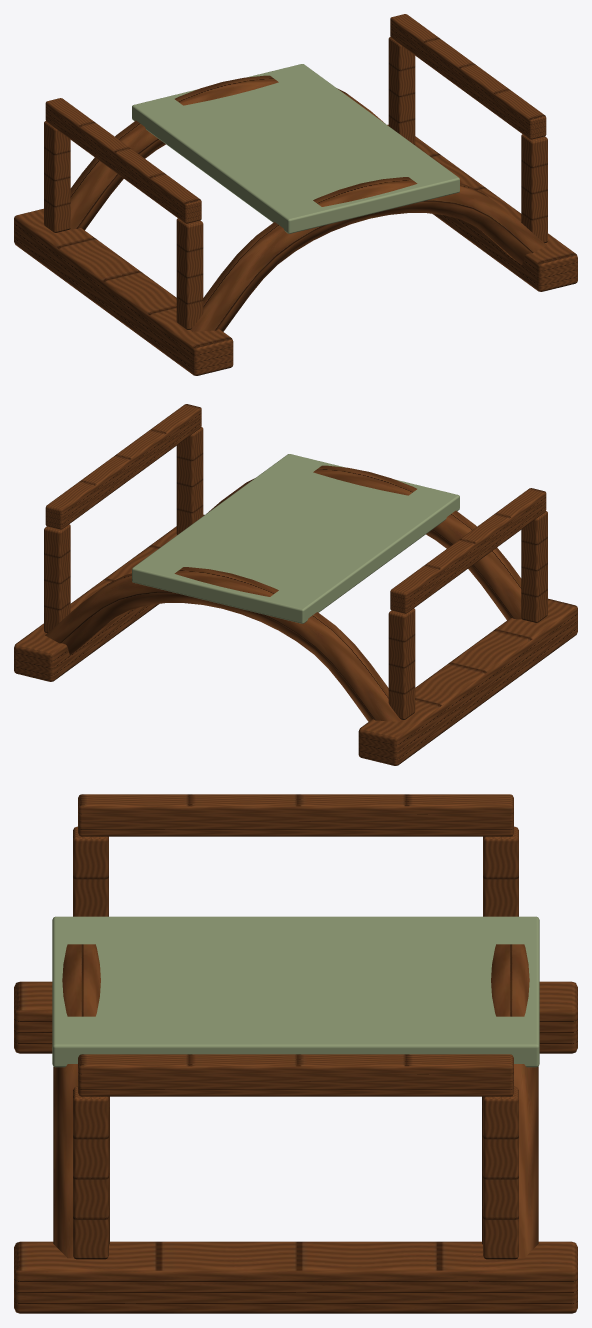
The model's file is creature-husbandry-and-transport-pack-saddle-52cf88f6__24017.glb.
3 renders of one model, top to bottom at view 1: azimuth 30°, elevation 25°; view 2: azimuth 150°, elevation 25°; view 3: azimuth 270°, elevation 25°, orthographic. The views are drawn at different scales.
Parts seen in each view (by area): view 1: pack-saddle; view 2: pack-saddle; view 3: pack-saddle.
Part boxes in pixels (x1=…): pack-saddle: x1=14, y1=14, x2=577, y2=375; pack-saddle: x1=14, y1=404, x2=577, y2=765; pack-saddle: x1=14, y1=794, x2=577, y2=1313.
Bounding box in the file's own units: 1.34 × 0.5201 × 1.1.
Materials: 2 (1 with a texture image).
